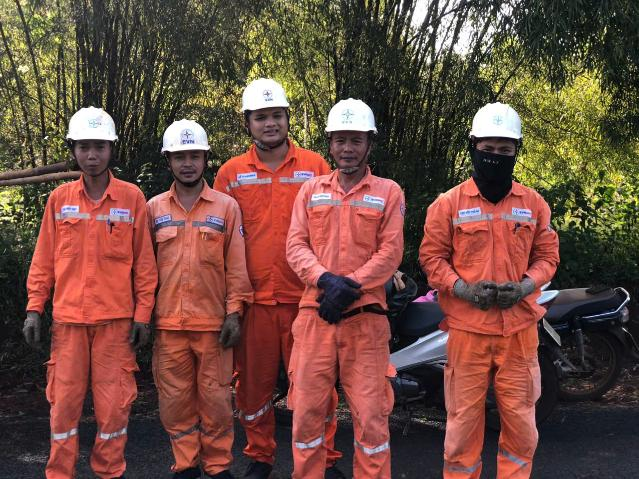gloves: (312, 290, 358, 330), (317, 266, 362, 304), (118, 314, 157, 357), (455, 277, 495, 314), (22, 304, 52, 350), (220, 305, 246, 354), (499, 280, 540, 311)
helmet: (59, 101, 119, 155), (467, 98, 528, 144), (320, 99, 386, 136), (158, 121, 217, 160), (235, 79, 295, 114)
shoes: (239, 456, 278, 479), (170, 454, 199, 479), (317, 456, 348, 479), (202, 456, 231, 479), (105, 474, 143, 479)
